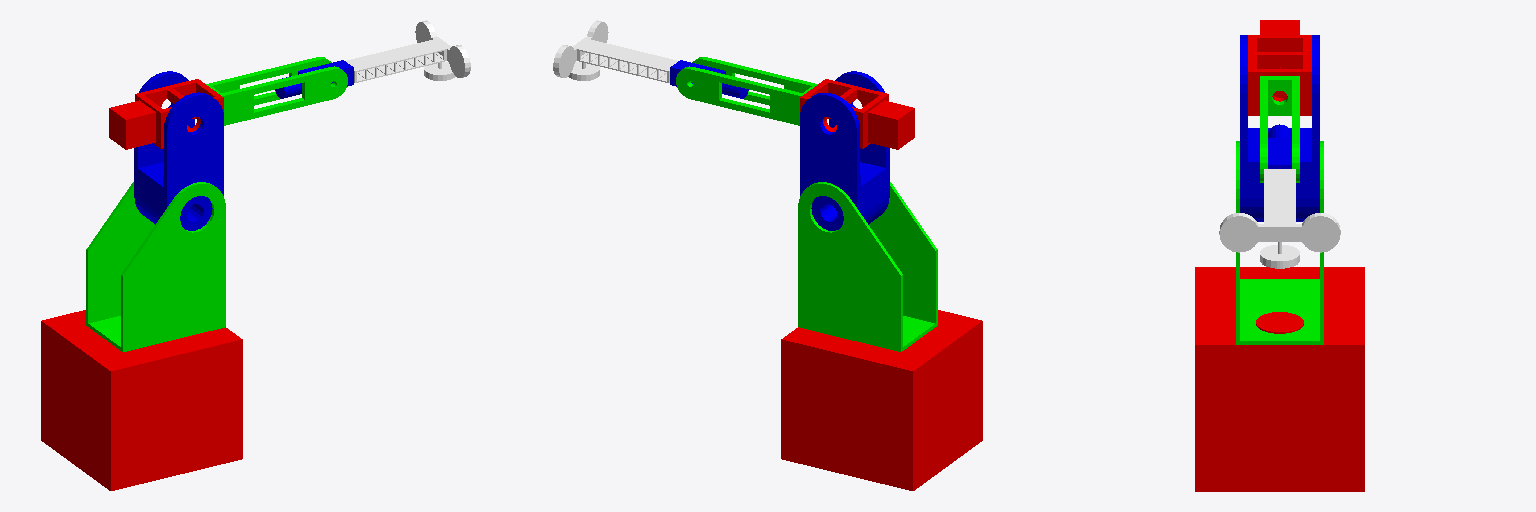
URDF robot description (robot_hand.SLDASM):
<?xml version="1.0" encoding="utf-8"?>
<!-- This URDF was automatically created by SolidWorks to URDF Exporter! Originally created by [author] ([email redacted]) 
     Commit Version: 1.6.0-4-g7f85cfe  Build Version: 1.6.7995.38578
     For more information, please see http://wiki.ros.org/sw_urdf_exporter -->
<robot
  name="robot_hand.SLDASM">
  <link
    name="base_link">
    <inertial>
      <origin
        xyz="-0.064848 1.7998E-17 0.10024"
        rpy="0 0 0" />
      <mass
        value="15" />
      <inertia
        ixx="0.06795"
        ixy="-1.0893E-17"
        ixz="-0.00015255"
        iyy="0.075129"
        iyz="-6.8003E-18"
        izz="0.078191" />
    </inertial>
    <visual>
      <origin
        xyz="0 0 0"
        rpy="0 0 0" />
      <geometry>
        <mesh
          filename="package://robot_hand.SLDASM/meshes/base_link.STL" />
      </geometry>
      <material
        name="">
        <color
          rgba="1 0 0 1" />
      </material>
    </visual>
    <collision>
      <origin
        xyz="0 0 0"
        rpy="0 0 0" />
      <geometry>
        <mesh
          filename="package://robot_hand.SLDASM/meshes/base_link.STL" />
      </geometry>
    </collision>
  </link>
  <link
    name="link1">
    <inertial>
      <origin
        xyz="-0.036582 1.751E-16 -0.11605"
        rpy="0 0 0" />
      <mass
        value="3" />
      <inertia
        ixx="0.0035754"
        ixy="4.9437E-19"
        ixz="-0.00032473"
        iyy="0.003679"
        iyz="-2.3373E-18"
        izz="0.002537" />
    </inertial>
    <visual>
      <origin
        xyz="0 0 0"
        rpy="0 0 0" />
      <geometry>
        <mesh
          filename="package://robot_hand.SLDASM/meshes/link1.STL" />
      </geometry>
      <material
        name="">
        <color
          rgba="0 1 0 1" />
      </material>
    </visual>
    <collision>
      <origin
        xyz="0 0 0"
        rpy="0 0 0" />
      <geometry>
        <mesh
          filename="package://robot_hand.SLDASM/meshes/link1.STL" />
      </geometry>
    </collision>
  </link>
  <joint
    name="joint1"
    type="revolute">
    <origin
      xyz="0 0 0.4"
      rpy="0 0 0" />
    <parent
      link="base_link" />
    <child
      link="link1" />
    <axis
      xyz="0 0 1" />
    <limit
      lower="-3.14"
      upper="3.14"
      effort="100"
      velocity="1" />
  </joint>
  <link
    name="link2">
    <inertial>
      <origin
        xyz="0.031711 1.9082E-17 -7.481E-17"
        rpy="0 0 0" />
      <mass
        value="1.5" />
      <inertia
        ixx="0.001991"
        ixy="2.5788E-18"
        ixz="-3.8338E-18"
        iyy="0.0045532"
        iyz="9.2237E-19"
        izz="0.0042654" />
    </inertial>
    <visual>
      <origin
        xyz="0 0 0"
        rpy="0 0 0" />
      <geometry>
        <mesh
          filename="package://robot_hand.SLDASM/meshes/link2.STL" />
      </geometry>
      <material
        name="">
        <color
          rgba="0 0 1 1" />
      </material>
    </visual>
    <collision>
      <origin
        xyz="0 0 0"
        rpy="0 0 0" />
      <geometry>
        <mesh
          filename="package://robot_hand.SLDASM/meshes/link2.STL" />
      </geometry>
    </collision>
  </link>
  <joint
    name="joint2"
    type="revolute">
    <origin
      xyz="0 0 0"
      rpy="1.5708 -1.5673 0" />
    <parent
      link="link1" />
    <child
      link="link2" />
    <axis
      xyz="0 0 1" />
    <limit
      lower="-3.14"
      upper="3.14"
      effort="100"
      velocity="1" />
  </joint>
  <link
    name="link3">
    <inertial>
      <origin
        xyz="-2.2204E-16 0.032585 -1.3921E-16"
        rpy="0 0 0" />
      <mass
        value="1" />
      <inertia
        ixx="0.0010397"
        ixy="1.721E-18"
        ixz="4.764E-20"
        iyy="0.0002855"
        iyz="-6.9357E-19"
        izz="0.00094685" />
    </inertial>
    <visual>
      <origin
        xyz="0 0 0"
        rpy="0 0 0" />
      <geometry>
        <mesh
          filename="package://robot_hand.SLDASM/meshes/link3.STL" />
      </geometry>
      <material
        name="">
        <color
          rgba="1 0 0 1" />
      </material>
    </visual>
    <collision>
      <origin
        xyz="0 0 0"
        rpy="0 0 0" />
      <geometry>
        <mesh
          filename="package://robot_hand.SLDASM/meshes/link3.STL" />
      </geometry>
    </collision>
  </link>
  <joint
    name="joint3"
    type="revolute">
    <origin
      xyz="0.145 0 0"
      rpy="0 0 0.0034824" />
    <parent
      link="link2" />
    <child
      link="link3" />
    <axis
      xyz="0 0 1" />
    <limit
      lower="-3.14"
      upper="3.14"
      effort="100"
      velocity="1" />
  </joint>
  <link
    name="link4">
    <inertial>
      <origin
        xyz="-1.1102E-16 0.096486 3.4152E-16"
        rpy="0 0 0" />
      <mass
        value="1" />
      <inertia
        ixx="0.0010272"
        ixy="7.2996E-19"
        ixz="2.7866E-19"
        iyy="0.00011176"
        iyz="-6.7115E-20"
        izz="0.0010029" />
    </inertial>
    <visual>
      <origin
        xyz="0 0 0"
        rpy="0 0 0" />
      <geometry>
        <mesh
          filename="package://robot_hand.SLDASM/meshes/link4.STL" />
      </geometry>
      <material
        name="">
        <color
          rgba="0 1 0 1" />
      </material>
    </visual>
    <collision>
      <origin
        xyz="0 0 0"
        rpy="0 0 0" />
      <geometry>
        <mesh
          filename="package://robot_hand.SLDASM/meshes/link4.STL" />
      </geometry>
    </collision>
  </link>
  <joint
    name="joint4"
    type="revolute">
    <origin
      xyz="0 -0.255 0"
      rpy="0 0 0" />
    <parent
      link="link3" />
    <child
      link="link4" />
    <axis
      xyz="0 1 0" />
    <limit
      lower="-3.14"
      upper="3.14"
      effort="100"
      velocity="1" />
  </joint>
  <link
    name="link5">
    <inertial>
      <origin
        xyz="0 -5.356E-17 -0.018287"
        rpy="0 0 0" />
      <mass
        value="1" />
      <inertia
        ixx="0.0001164"
        ixy="-3.7058E-21"
        ixz="4.8231E-19"
        iyy="0.00011656"
        iyz="-2.639E-19"
        izz="1.374E-05" />
    </inertial>
    <visual>
      <origin
        xyz="0 0 0"
        rpy="0 0 0" />
      <geometry>
        <mesh
          filename="package://robot_hand.SLDASM/meshes/link5.STL" />
      </geometry>
      <material
        name="">
        <color
          rgba="0 0 1 1" />
      </material>
    </visual>
    <collision>
      <origin
        xyz="0 0 0"
        rpy="0 0 0" />
      <geometry>
        <mesh
          filename="package://robot_hand.SLDASM/meshes/link5.STL" />
      </geometry>
    </collision>
  </link>
  <joint
    name="joint5"
    type="revolute">
    <origin
      xyz="0 0 0"
      rpy="1.5708 0 0" />
    <parent
      link="link4" />
    <child
      link="link5" />
    <axis
      xyz="0 -1 0" />
    <limit
      lower="-3.14"
      upper="3.14"
      effort="100"
      velocity="1" />
  </joint>
  <link
    name="link6">
    <inertial>
      <origin
        xyz="-0.00696179662267149 -2.75387351811318E-17 -0.0325134687473073"
        rpy="0 0 0" />
      <mass
        value="0.100338054152699" />
      <inertia
        ixx="0.000346328999684444"
        ixy="-6.06658274335653E-20"
        ixz="1.57264037129946E-05"
        iyy="0.00026048472401512"
        iyz="-1.63275102735533E-19"
        izz="0.000142502211780451" />
    </inertial>
    <visual>
      <origin
        xyz="0 0 0"
        rpy="0 0 0" />
      <geometry>
        <mesh
          filename="package://robot_hand.SLDASM/meshes/link6.STL" />
      </geometry>
      <material
        name="">
        <color
          rgba="1 1 1 1" />
      </material>
    </visual>
    <collision>
      <origin
        xyz="0 0 0"
        rpy="0 0 0" />
      <geometry>
        <mesh
          filename="package://robot_hand.SLDASM/meshes/link6.STL" />
      </geometry>
    </collision>
  </link>
  <joint
    name="joint6"
    type="revolute">
    <origin
      xyz="0 0 0.21"
      rpy="0 0 0" />
    <parent
      link="link5" />
    <child
      link="link6" />
    <axis
      xyz="0 0 -1" />
    <limit
      lower="-3.14"
      upper="3.14"
      effort="100"
      velocity="1" />
  </joint>
</robot>

--- What the picture shows (computed from the rendered views, not written in the file) ---
Views: 3 orthographic renders of the robot side by side, from view 1: azimuth 30°, elevation 25°; view 2: azimuth 150°, elevation 25°; view 3: azimuth 270°, elevation 25°.
Robot: robot_hand.SLDASM — 7 links, 6 joints (6 revolute); root link base_link; default pose: every joint at zero.
Visible links, largest first — view 1: base_link, link1, link2, link4, link6, link3, link5; view 2: base_link, link1, link2, link4, link6, link3, link5; view 3: base_link, link6, link1, link2, link3, link4, link5.
Boxes of the visible links, bbox=[...] form: base_link: bbox=[41, 310, 242, 490]; link1: bbox=[86, 182, 225, 351]; link2: bbox=[134, 71, 223, 230]; link4: bbox=[206, 57, 347, 125]; link6: bbox=[346, 20, 470, 82]; link3: bbox=[109, 79, 223, 149]; link5: bbox=[275, 60, 353, 98]; base_link: bbox=[781, 310, 982, 490]; link1: bbox=[798, 182, 937, 351]; link2: bbox=[800, 71, 889, 230]; link4: bbox=[676, 57, 817, 125]; link6: bbox=[553, 20, 677, 82]; link3: bbox=[800, 79, 914, 149]; link5: bbox=[670, 60, 748, 98]; base_link: bbox=[1195, 267, 1364, 491]; link6: bbox=[1219, 169, 1340, 268]; link1: bbox=[1236, 141, 1323, 344]; link2: bbox=[1240, 35, 1319, 221]; link3: bbox=[1248, 20, 1311, 115]; link4: bbox=[1260, 76, 1299, 182]; link5: bbox=[1268, 124, 1291, 168].
Size in the robot's own frame: 0.6605 by 0.21 by 0.595 metres.
7 mesh visuals loaded from 7 distinct referenced files (7 binary STL).